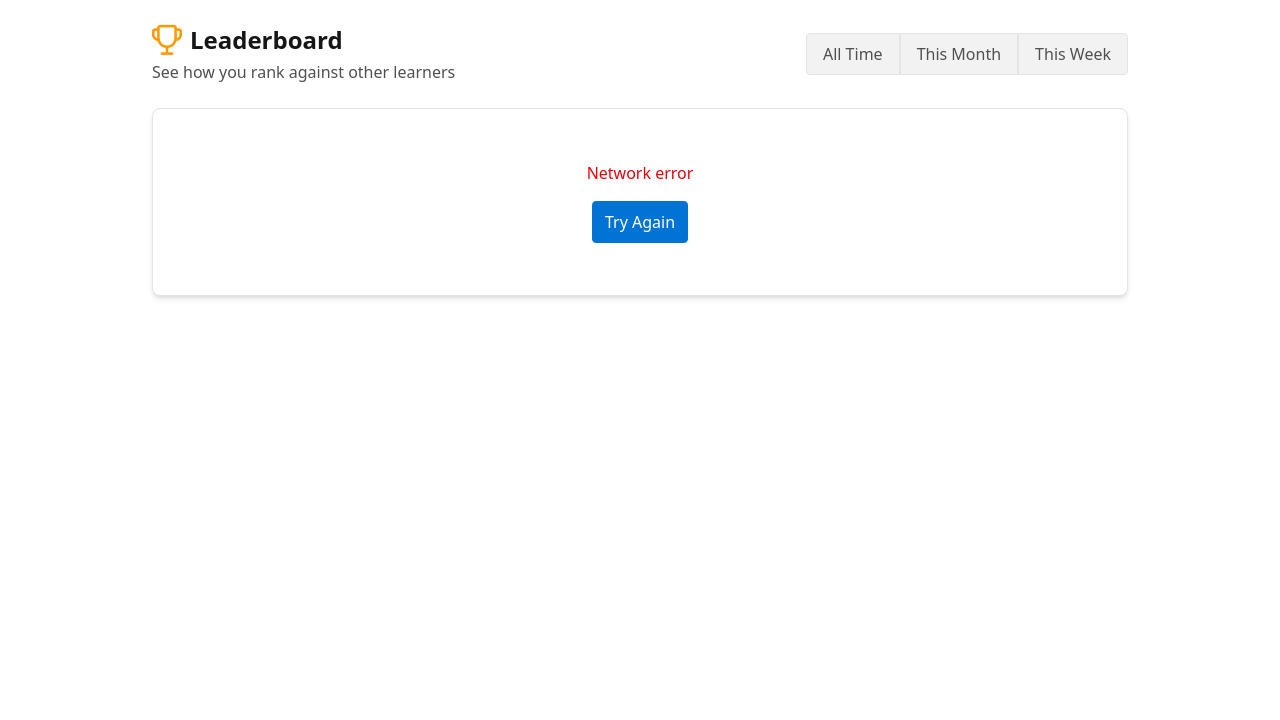
Test: LeaderboardView › error handling › should retry on try again click
The width and height of the screenshot is (1280, 720).
Click the button "Try Again": (640, 222) [592,201,688,243]
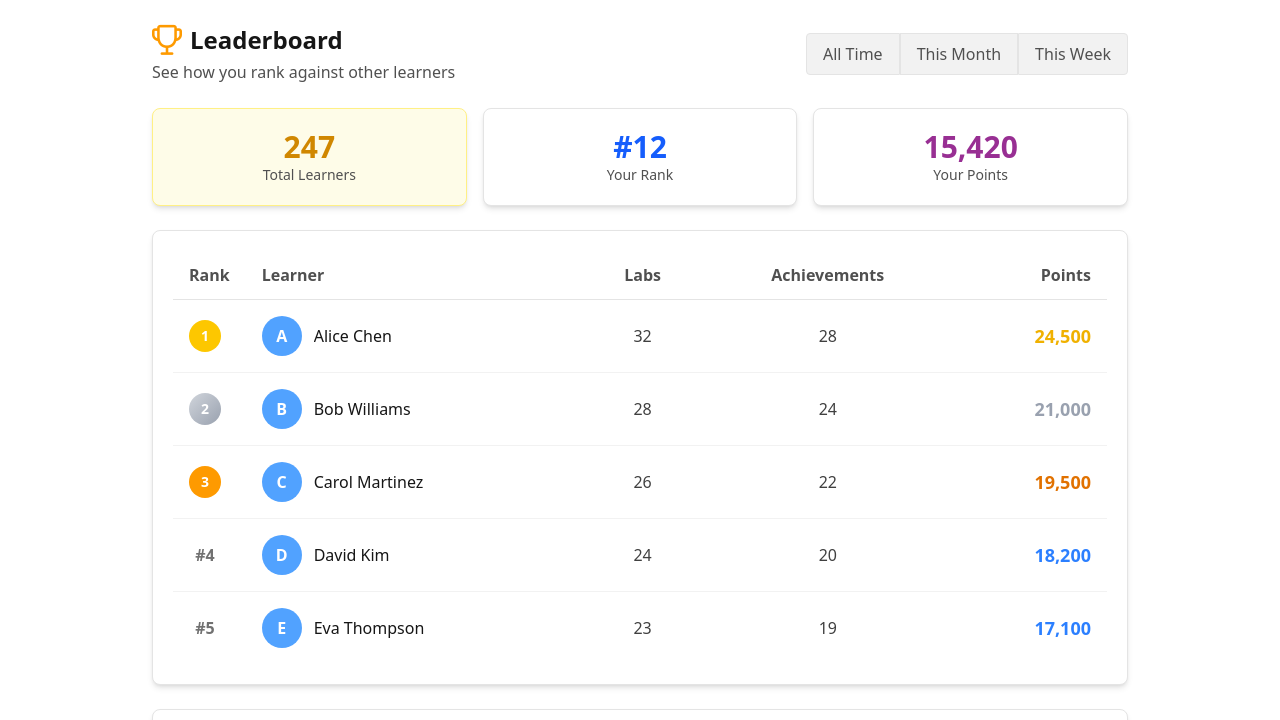
Expected: the text "Alice Chen" is shown, [314,324,392,348]
